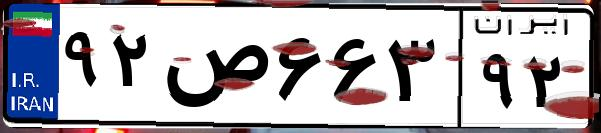2: (525, 38, 570, 115), (110, 28, 158, 98)
3: (385, 28, 445, 110)
6: (270, 28, 330, 110), (330, 28, 385, 110)
9: (57, 26, 110, 100), (475, 38, 525, 113)
ص: (158, 20, 270, 120)
